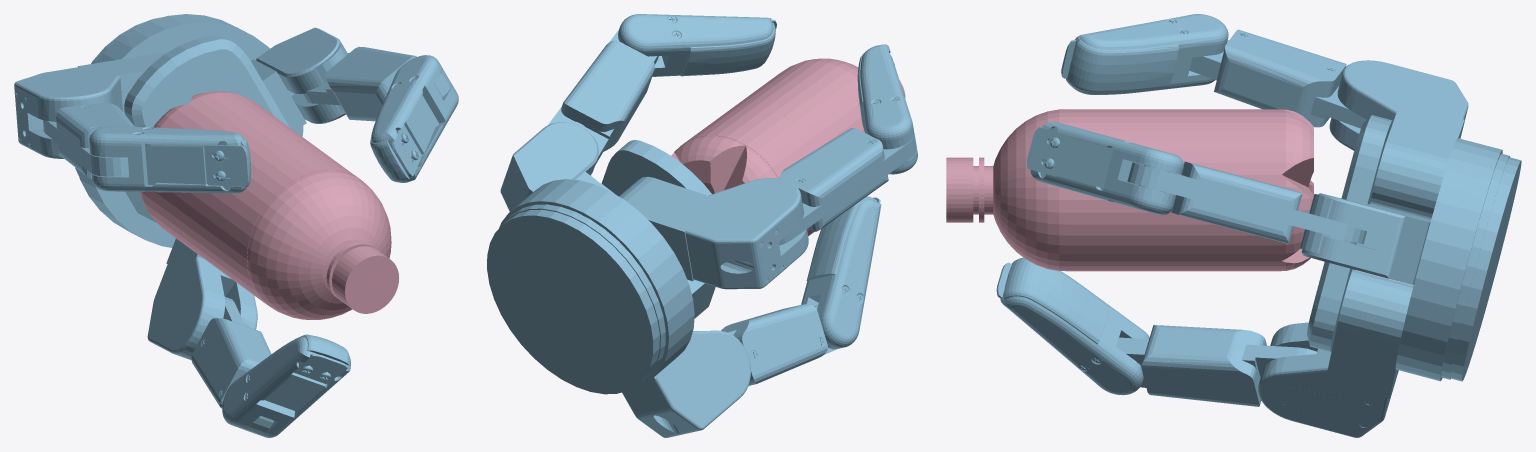
3 renders of one model, left to right at view 1: azimuth 30°, elevation 25°; view 2: azimuth 150°, elevation 25°; view 3: azimuth 270°, elevation 25°, orthographic. The views are drawn at different scales.
Visible parts, largest first — view 1: world, water_bottle.stl; view 2: world, water_bottle.stl; view 3: world, water_bottle.stl.
Part boxes in pixels (bbox=[...]): world: bbox=[14, 14, 458, 437]; water_bottle.stl: bbox=[140, 91, 399, 319]; world: bbox=[487, 14, 917, 437]; water_bottle.stl: bbox=[671, 58, 905, 235]; world: bbox=[996, 14, 1521, 437]; water_bottle.stl: bbox=[946, 109, 1313, 271].
Bounding box in the file's own units: 0.1526 × 0.1451 × 0.2135.
